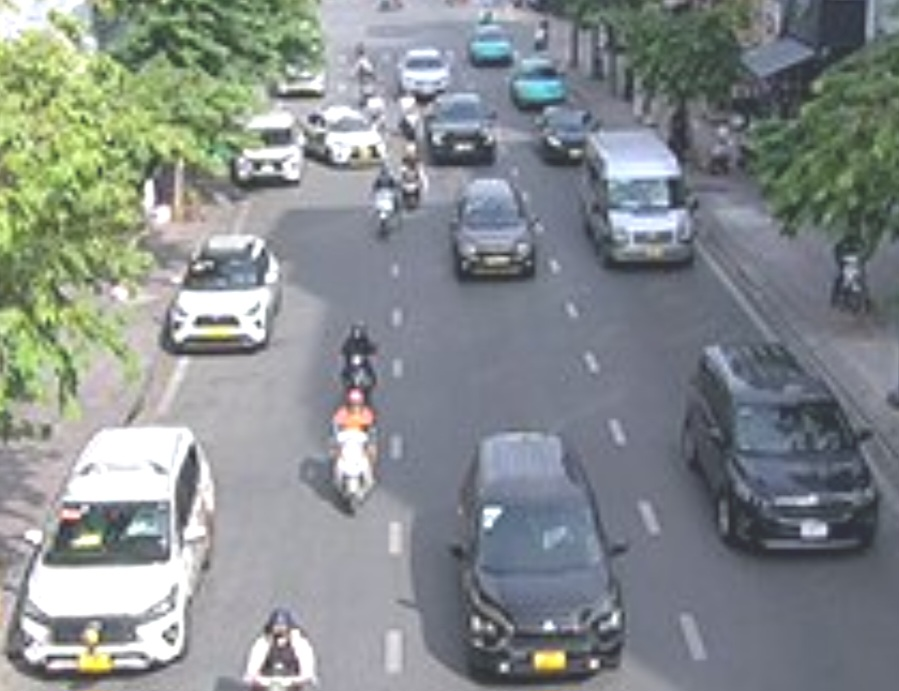car: (16, 430, 215, 674), (681, 337, 879, 561), (456, 430, 627, 683), (586, 133, 698, 267), (166, 234, 285, 358), (451, 178, 537, 284), (232, 109, 306, 186), (425, 95, 500, 166), (307, 104, 390, 168), (538, 107, 602, 163), (397, 49, 454, 96), (512, 62, 570, 107), (466, 22, 516, 65)
